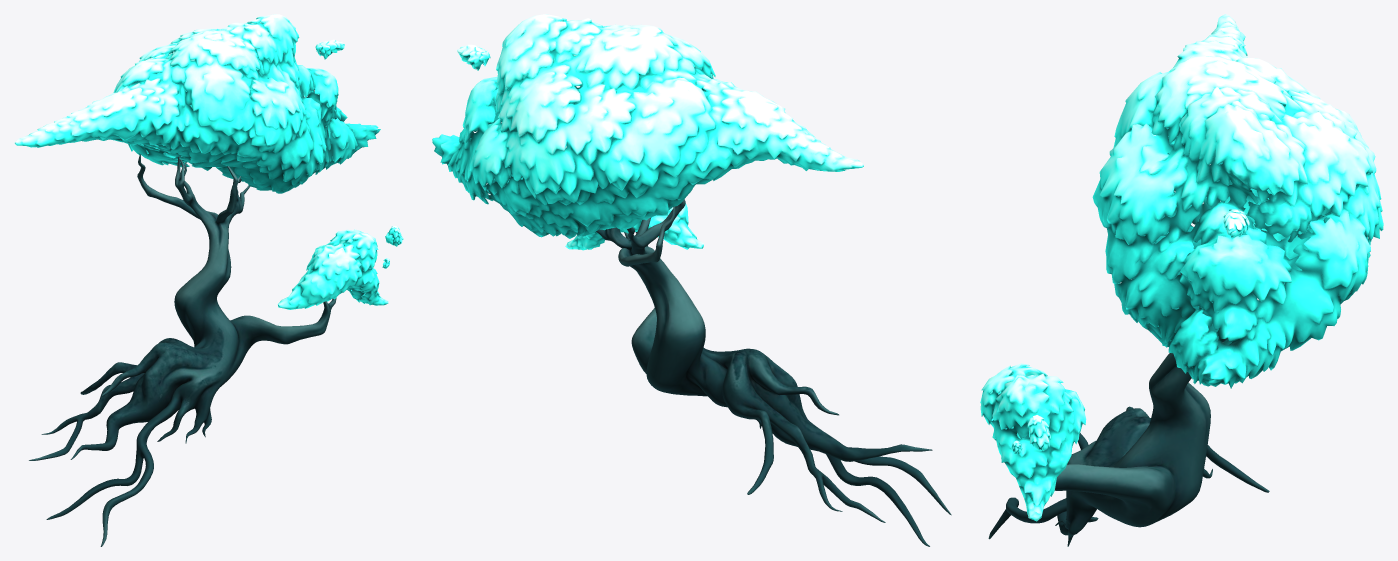
File: sky_tree_01b_soma_v35.glb
3 renders of one model, left to right at view 1: azimuth 30°, elevation 25°; view 2: azimuth 150°, elevation 25°; view 3: azimuth 270°, elevation 25°, orthographic. The views are drawn at different scales.
Parts seen in each view (by area): view 1: tree_01b; view 2: tree_01b; view 3: tree_01b.
Boxes of the visible parts, x1=… form: tree_01b: x1=14, y1=14, x2=403, y2=546; tree_01b: x1=432, y1=14, x2=951, y2=546; tree_01b: x1=980, y1=14, x2=1383, y2=546.
Size of the model in its own units: 38.75 by 40.81 by 24.35.
2 materials, 2 textured.
